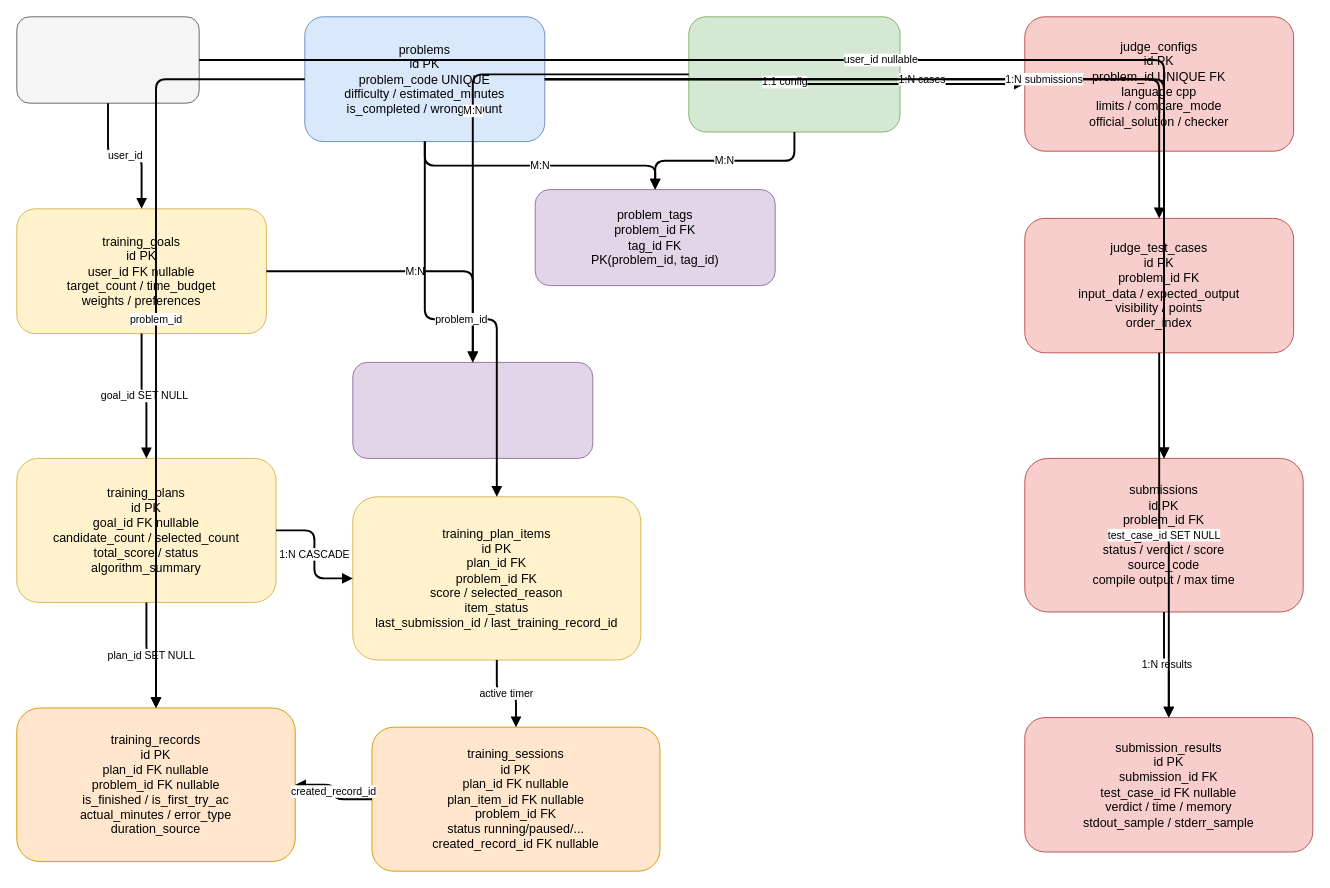
Some shapes in this 1330 by 888 pixel diagram are drawn without their labels. Each missing label, with the centre of its shape:
"tags id PK name UNIQUE mastery_score wrong_count" belongs at pixel 794 74.
"training_goal_tags goal_id FK tag_id FK PK(goal_id, tag_id)" belongs at pixel 472 409.
"users id PK username" belongs at pixel 107 59.
